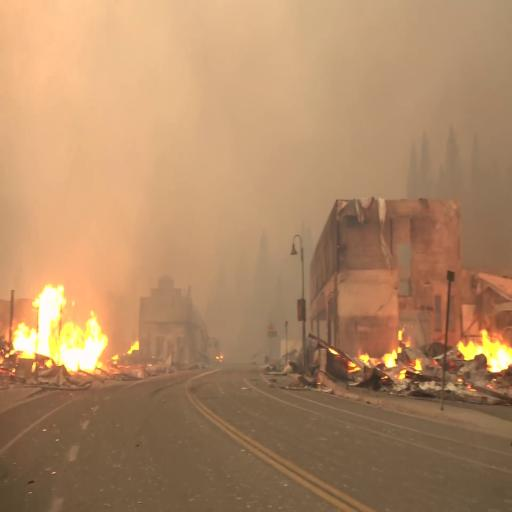fire: (19, 284, 101, 365), (459, 324, 512, 377)
